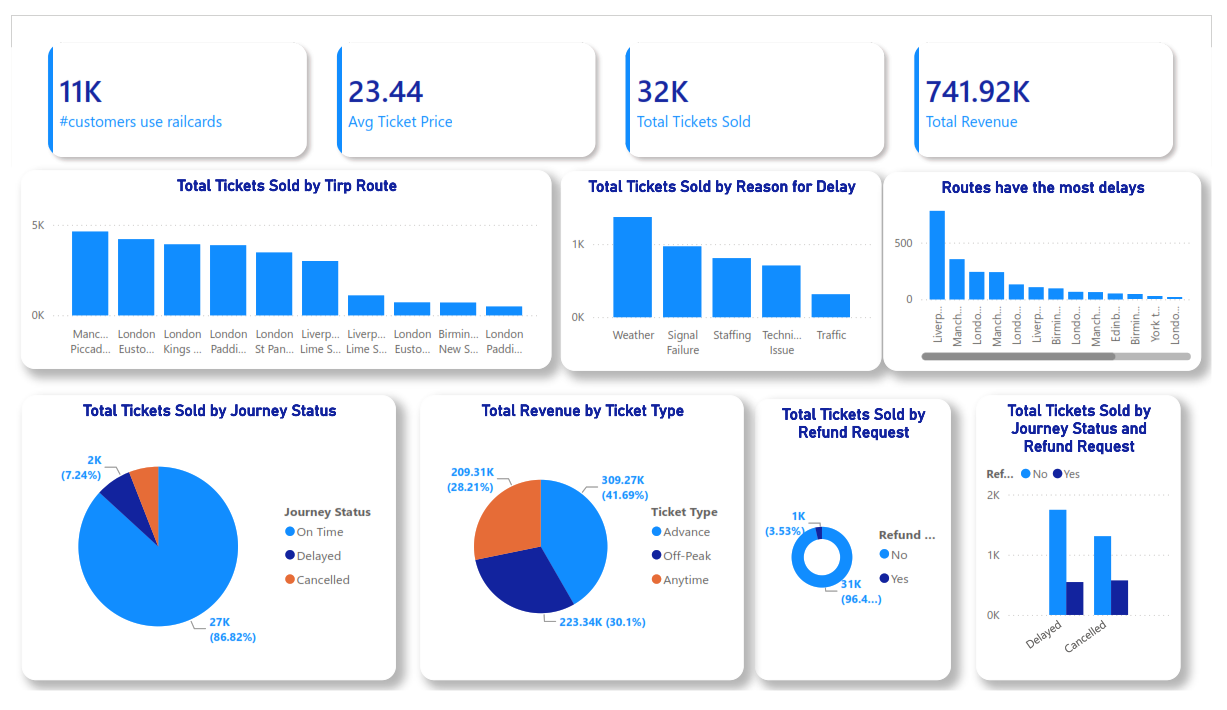

Layout of this report page (visuals, bound fields, positions):
{"tool":"powerbi","page":{"name":"analysis_operations","canvas":[1280,720],"ordinal":2},"visuals":[{"type":"cardVisual","fields":{"Data":["Sheet1.#customers use railcards","Sheet1.Avg Ticket Price","Sheet1.Total Tickets Sold","Sheet1.Total Revenue"]},"box":[9.6,0,1259.7,179.8],"z":0},{"type":"clusteredColumnChart","fields":{"Category":["Sheet1.Tirp Route"],"Y":["Sheet1.Total Tickets Sold"]},"box":[9.6,164.7,566.7,212.7],"z":1000},{"type":"pieChart","fields":{"Y":["Sheet1.Total Tickets Sold"],"Category":["Sheet1.Journey Status"]},"box":[11,404.8,399.3,304.6],"z":2000},{"type":"clusteredColumnChart","fields":{"Category":["Sheet1.Reason for Delay"],"Y":["Sheet1.Total Tickets Sold"]},"box":[585.9,166,341.7,212.7],"z":3000},{"type":"clusteredColumnChart","title":"Routes have the most delays","fields":{"Category":["Sheet1.Tirp Route"],"Y":["CountNonNull(Sheet1.Journey Status)"]},"box":[930.4,167.4,338.9,211.3],"z":4000},{"type":"donutChart","fields":{"Category":["Sheet1.Refund Request"],"Y":["Sheet1.Total Tickets Sold"]},"box":[793.1,408.9,208.6,300.5],"z":5000},{"type":"clusteredColumnChart","fields":{"Y":["Sheet1.Total Tickets Sold"],"Category":["Sheet1.Journey Status"],"Series":["Sheet1.Refund Request"]},"box":[1029.2,404.8,218.2,304.6],"z":6000},{"type":"pieChart","fields":{"Category":["Sheet1.Ticket Type"],"Y":["Sheet1.Total Revenue"]},"box":[436.4,404.8,344.4,304.6],"z":7000}]}

Visuals, with their boxes in screenshot pixels (x1, y1, x2, y2), scaled from the page's 1280x720 canvas onto the 1227x710 screenshot:
cardVisual - Sheet1.#customers use railcards x Sheet1.Avg Ticket Price: 9, 0, 1217, 177
clusteredColumnChart - Sheet1.Tirp Route x Sheet1.Total Tickets Sold: 9, 162, 552, 372
pieChart - Sheet1.Total Tickets Sold x Sheet1.Journey Status: 11, 399, 393, 700
clusteredColumnChart - Sheet1.Reason for Delay x Sheet1.Total Tickets Sold: 562, 164, 889, 373
"Routes have the most delays" clusteredColumnChart: 892, 165, 1217, 373
donutChart - Sheet1.Refund Request x Sheet1.Total Tickets Sold: 760, 403, 960, 700
clusteredColumnChart - Sheet1.Total Tickets Sold x Sheet1.Journey Status: 987, 399, 1196, 700
pieChart - Sheet1.Ticket Type x Sheet1.Total Revenue: 418, 399, 748, 700
